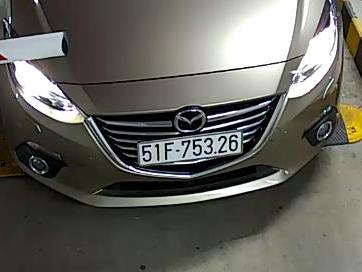car: (136, 129, 244, 166)
